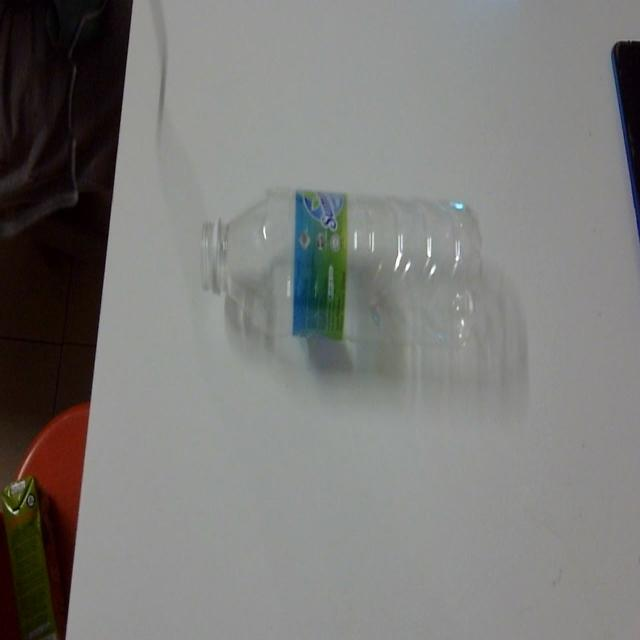plastic_laydown_0rotation: (196, 174, 494, 362)
